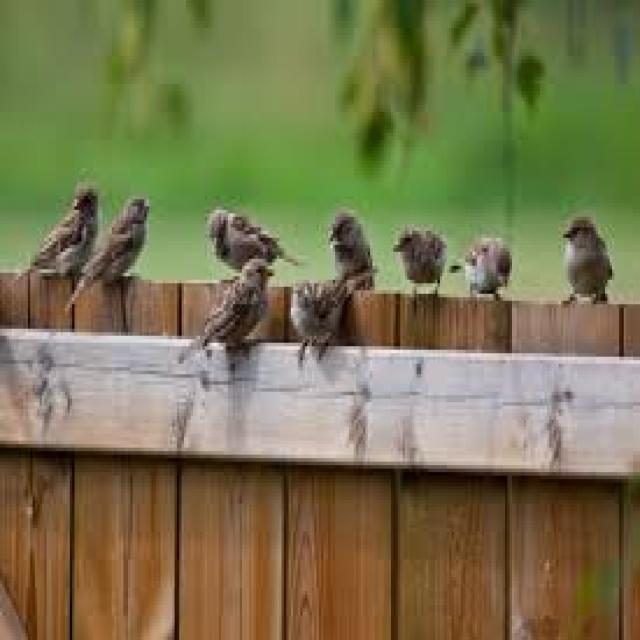bird: (15, 180, 97, 281), (198, 254, 271, 351), (557, 213, 620, 301), (100, 193, 152, 295), (280, 276, 357, 342), (209, 207, 283, 272), (325, 209, 383, 283), (454, 231, 514, 301), (393, 222, 448, 292)
